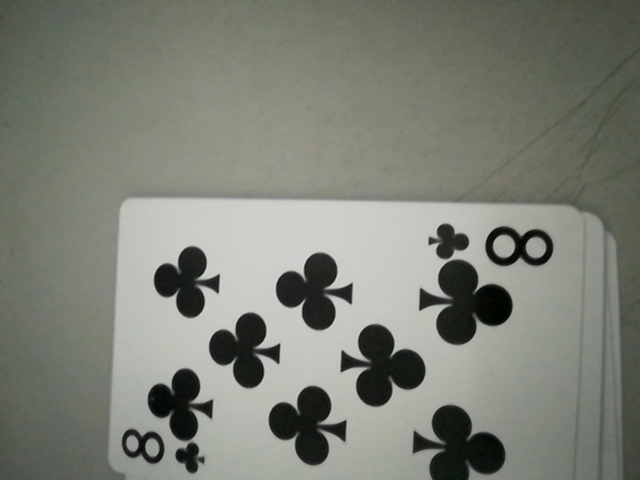mh 8: (427, 219, 558, 270), (117, 427, 204, 478)
